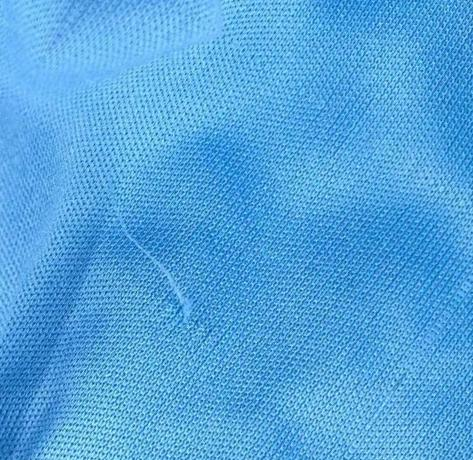snag: (115, 206, 204, 332)
